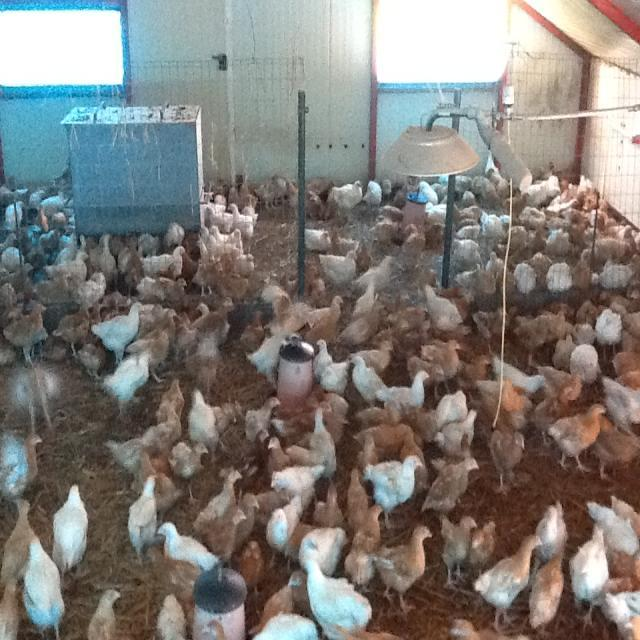poussin: (474, 532, 544, 628), (304, 533, 371, 631), (373, 522, 435, 614), (357, 452, 427, 532), (0, 367, 65, 442), (24, 533, 68, 640), (248, 567, 312, 635), (546, 405, 608, 473), (567, 528, 609, 626), (418, 454, 484, 516), (126, 311, 178, 382), (0, 492, 37, 587), (434, 512, 480, 588), (344, 500, 386, 583), (51, 481, 88, 573), (524, 552, 566, 632), (191, 466, 245, 528), (157, 520, 221, 572), (246, 317, 296, 382), (105, 422, 166, 475), (0, 426, 43, 500), (264, 494, 306, 569), (589, 422, 640, 483), (128, 473, 162, 564), (590, 493, 640, 554), (102, 356, 152, 416), (3, 300, 48, 366), (485, 428, 528, 497), (93, 303, 147, 357), (136, 450, 182, 512), (144, 546, 200, 596), (296, 524, 349, 576), (168, 440, 211, 504), (183, 325, 224, 389), (199, 506, 249, 558), (263, 284, 313, 334), (44, 247, 94, 296), (422, 340, 462, 401), (270, 402, 334, 440), (450, 610, 530, 640), (434, 407, 480, 457), (494, 354, 548, 395), (357, 422, 420, 457), (452, 352, 496, 402), (339, 300, 389, 344), (514, 310, 554, 364), (191, 296, 236, 344), (53, 296, 96, 346), (473, 298, 516, 347), (422, 284, 462, 336), (400, 420, 430, 489), (141, 401, 184, 449), (534, 365, 584, 406), (242, 394, 282, 444), (603, 548, 640, 602), (601, 374, 640, 425), (188, 384, 220, 446), (128, 330, 170, 377), (314, 382, 349, 438), (223, 493, 261, 544), (536, 501, 570, 558), (378, 372, 429, 410), (477, 388, 523, 430), (235, 534, 266, 596), (8, 306, 48, 354), (270, 464, 328, 497), (138, 243, 189, 280), (480, 377, 533, 412), (30, 262, 74, 304), (86, 588, 122, 639), (247, 615, 320, 640), (350, 354, 388, 402), (468, 516, 501, 570), (256, 174, 302, 212), (310, 407, 338, 469), (92, 230, 125, 282), (610, 347, 640, 404), (251, 482, 291, 524), (356, 252, 398, 292), (605, 593, 640, 640), (0, 572, 24, 640), (311, 481, 345, 529), (318, 246, 362, 283), (435, 386, 467, 436), (152, 592, 185, 640), (74, 268, 110, 312), (406, 352, 447, 390), (306, 291, 344, 332), (398, 406, 438, 444), (400, 218, 433, 264), (304, 173, 334, 223), (110, 236, 136, 292), (50, 223, 80, 270), (283, 520, 315, 564), (285, 441, 330, 472), (598, 282, 640, 315), (588, 234, 634, 264), (569, 344, 605, 382), (540, 304, 574, 344), (596, 308, 622, 360), (69, 339, 104, 377), (308, 308, 342, 347), (356, 402, 404, 429), (192, 253, 222, 296), (137, 276, 190, 300), (0, 259, 33, 297), (119, 256, 147, 300), (318, 358, 352, 394), (448, 234, 479, 272), (353, 278, 381, 318), (196, 300, 231, 332), (227, 200, 255, 240), (330, 178, 366, 209), (240, 310, 266, 352), (446, 291, 476, 327), (551, 332, 579, 370), (346, 468, 368, 516), (544, 258, 575, 292), (619, 304, 640, 354), (265, 437, 293, 474), (136, 302, 166, 336), (480, 214, 514, 244), (215, 268, 249, 298), (513, 256, 541, 292), (600, 258, 633, 288), (356, 342, 392, 369), (371, 216, 403, 246), (200, 222, 225, 260), (314, 339, 334, 386), (452, 202, 487, 228), (464, 268, 496, 296), (470, 169, 498, 201), (179, 238, 198, 284), (613, 220, 640, 252), (352, 236, 376, 272), (160, 378, 184, 413), (531, 248, 552, 288), (0, 246, 25, 279), (570, 256, 594, 290), (162, 219, 186, 253), (328, 226, 357, 254), (542, 196, 582, 216), (3, 198, 26, 232), (524, 178, 552, 205), (544, 168, 566, 202), (360, 434, 380, 471), (16, 223, 38, 256), (424, 202, 454, 226), (489, 166, 512, 197), (196, 236, 218, 268), (242, 189, 262, 224), (589, 204, 615, 230), (546, 228, 572, 254), (24, 242, 46, 272), (498, 262, 518, 294), (362, 176, 382, 208), (74, 226, 89, 268), (483, 250, 507, 276), (506, 188, 532, 212), (576, 300, 600, 325), (584, 191, 608, 216), (563, 208, 593, 228), (454, 223, 484, 243), (304, 227, 330, 250), (570, 322, 598, 343), (201, 620, 230, 640), (450, 173, 474, 197), (233, 253, 258, 276), (509, 224, 529, 252), (420, 180, 442, 204), (138, 231, 160, 255), (568, 224, 594, 244), (40, 193, 64, 214), (0, 232, 20, 257), (228, 224, 246, 251), (29, 186, 51, 208), (525, 230, 549, 250), (208, 223, 230, 244), (41, 226, 56, 255), (379, 202, 403, 220), (34, 205, 48, 232), (380, 176, 394, 202), (576, 176, 594, 196)
